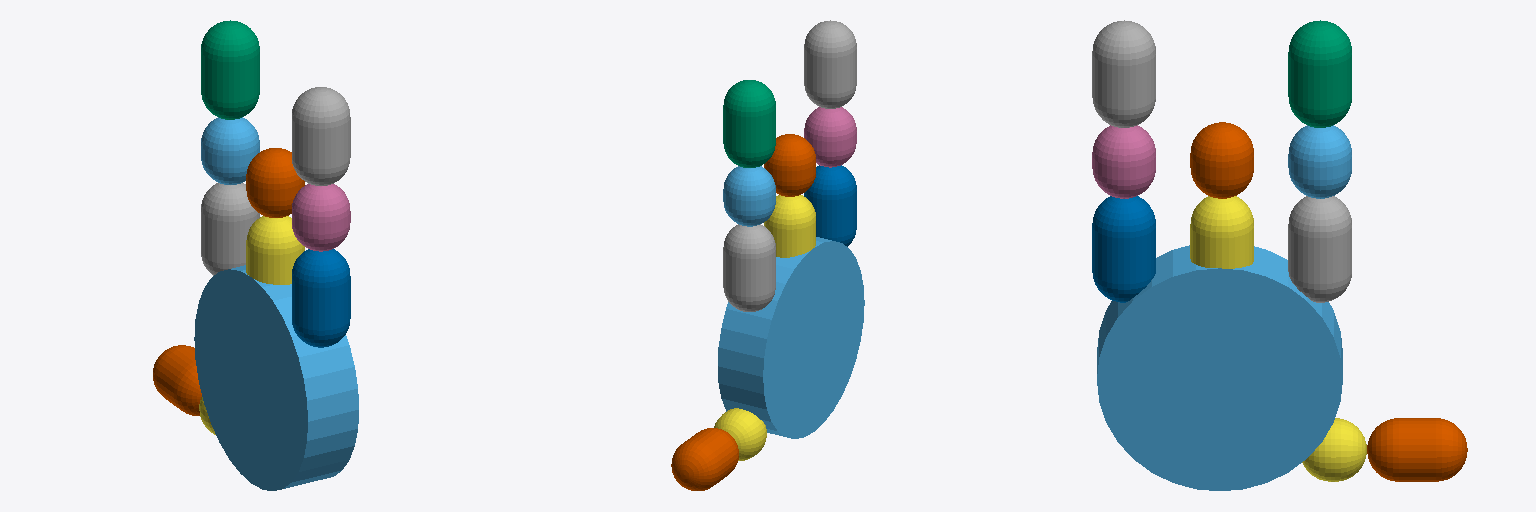
URDF robot description (DexterousHand):
<?xml version="1.0"?>
<robot name="DexterousHand">


    <link name="world"/>
    <joint name="world_to_palm" type="fixed">
        <parent link="world"/>
        <child link="palm"/>
        <origin xyz="0 0 0" rpy="0 0 0"/>
    </joint>
    <link name="palm">
        <inertial>
            <origin xyz="0 0 0.057" rpy="0 0 0"/>
            <mass value="0.30212892864"/>
            <inertia ixx="0.00049080844457568" ixy="0.0" ixz="0.0" iyy="0.00026746366246427523" iyz="0.0" izz="0.00026746366246427523"/>
        </inertial>
        <visual>
            <origin xyz="0 0 0.057" rpy="1.5708 0 1.5708"/>
            <geometry>
                <cylinder radius="0.057" length="0.0296"/>
            </geometry>
            <material name="default"/>
        </visual>
        <collision>
            <origin xyz="0 0 0.057" rpy="1.5708 0 1.5708"/>
            <geometry>
                <cylinder radius="0.057" length="0.0296"/>
            </geometry>
        </collision>
    </link>

    
    <joint name="thumb_joint1" type="revolute">
        <parent link="palm"/>
        <child link="thumb_base"/>
        <origin xyz="0.0029 0.0368 0.0157" rpy="-1.5708 -1.5708 0.0"/>
        <axis xyz="-1 0 0"/>
        <limit lower="-0.349" upper="2.094" effort="1.0" velocity="1.0"/>
    </joint>

    <link name="thumb_base"></link>

    <joint name="thumb_joint2" type="revolute">
        <parent link="thumb_base"/>
        <child link="thumb_proximal"/>
        <origin xyz="0.0 0.0 0.0" rpy="0.0 0.0 0.0"/>
        <axis xyz="0 0 1"/>
        <limit lower="-0.47" upper="2.443" effort="1.0" velocity="1.0"/>
    </joint>

    <link name="thumb_proximal">
        <inertial>
            <origin xyz="0 0 0.01565" rpy="0 0 0"/>
            <mass value="0.021538658803200002"/>
            <inertia ixx="2.9378910096388167e-06" ixy="0.0" ixz="0.0" 
            iyy="2.9378910096388167e-06" iyz="0.0" izz="2.358913912126464e-06"/>
        </inertial>
        <visual>
            <origin xyz="0 0 0.01565" rpy="0 0 0"/>
            <geometry>
                <cylinder radius="0.0148" length="0.0017000000000000001"/>
            </geometry>
            <material name="default"/>
        </visual>
        <visual>
            <origin xyz="0 0 0.0148" rpy="0 0 0"/>
            <geometry>
                <sphere radius="0.0148"/>
            </geometry>
            <material name="default"/>
        </visual>
        <visual>
            <origin xyz="0 0 0.0165" rpy="0 0 0"/>
            <geometry>
                <sphere radius="0.0148"/>
            </geometry>
            <material name="default"/>
        </visual>
        <collision>
            <origin xyz="0 0 0.01565" rpy="0 0 0"/>
            <geometry>
                <cylinder radius="0.0148" length="0.0017000000000000001"/>
            </geometry>
        </collision>
        <collision>
            <origin xyz="0 0 0.0148" rpy="0 0 0"/>
            <geometry>
                <sphere radius="0.0148"/>
            </geometry>
        </collision>
        <collision>
            <origin xyz="0 0 0.0165" rpy="0 0 0"/>
            <geometry>
                <sphere radius="0.0148"/>
            </geometry>
        </collision>
    </link>

    <joint name="thumb_joint3" type="revolute">
        <parent link="thumb_proximal"/>
        <child link="thumb_knuckle"/>
        <origin xyz="0.0 0.0 0.0313" rpy="0.0 0.0 0.0"/>
        <axis xyz="1 0 0"/>
        <limit lower="0.0" upper="0.0" effort="1.0" velocity="1.0"/>
    </joint>

    <link name="thumb_knuckle"></link>

    <joint name="thumb_joint4" type="revolute">
        <parent link="thumb_knuckle"/>
        <child link="thumb_middle"/>
        <origin xyz="0 0 0" rpy="0 0 0"/> 
        <axis xyz="0 1 0"/>
        <limit lower="-1.2" upper="1.9" effort="1.0" velocity="1.0"/>
    </joint>

    <link name="thumb_middle">
        <inertial>
            <origin xyz="0 0 0.0233" rpy="0 0 0"/>
            <mass value="0.032067140582400004"/>
            <inertia ixx="7.5589732685519385e-06" ixy="0.0" ixz="0.0" 
            iyy="7.5589732685519385e-06" iyz="0.0" izz="3.5119932365844485e-06"/>
        </inertial>
        <visual>
            <origin xyz="0 0 0.0233" rpy="0 0 0"/>
            <geometry>
                <cylinder radius="0.0148" length="0.017"/>
            </geometry>
            <material name="default"/>
        </visual>
        <visual>
            <origin xyz="0 0 0.0148" rpy="0 0 0"/>
            <geometry>
                <sphere radius="0.0148"/>
            </geometry>
            <material name="default"/>
        </visual>
        <visual>
            <origin xyz="0 0 0.0318" rpy="0 0 0"/>
            <geometry>
                <sphere radius="0.0148"/>
            </geometry>
            <material name="default"/>
        </visual>
        <collision>
            <origin xyz="0 0 0.0233" rpy="0 0 0"/>
            <geometry>
                <cylinder radius="0.0148" length="0.017"/>
            </geometry>
        </collision>
        <collision>
            <origin xyz="0 0 0.0148" rpy="0 0 0"/>
            <geometry>
                <sphere radius="0.0148"/>
            </geometry>
        </collision>
        <collision>
            <origin xyz="0 0 0.0318" rpy="0 0 0"/>
            <geometry>
                <sphere radius="0.0148"/>
            </geometry>
        </collision>
    </link>

    <joint name="thumb_joint5" type="revolute">
        <parent link="thumb_middle"/>
        <child link="thumb_distal"/>
        <origin xyz="0 0 0.0466" rpy="0 0 0"/> 
        <axis xyz="0 1 0"/>
        <limit lower="0.0" upper="0.0" effort="1.0" velocity="1.0"/>
    </joint>

    <link name="thumb_distal">
    </link>

    
    <joint name="index_joint1" type="revolute">
        <parent link="palm"/>
        <child link="index_proximal"/>
        <origin xyz="0.0 0.0465 0.091" rpy="0.0 0.0 0.0"/>
        <axis xyz="0 1 0"/>
        <limit lower="-0.314" upper="2.23" effort="1.0" velocity="1.0"/>
    </joint>

    <link name="index_proximal">
        <inertial>
            <origin xyz="0 0 0.02655" rpy="0 0 0"/>
            <mass value="0.036540024998400006"/>
            <inertia ixx="1.058665009272394e-05" ixy="0.0" ixz="0.0" 
            iyy="1.058665009272394e-05" iyz="0.0" izz="4.001863537824769e-06"/>
        </inertial>
        <visual>
            <origin xyz="0 0 0.02655" rpy="0 0 0"/>
            <geometry>
                <cylinder radius="0.0148" length="0.0235"/>
            </geometry>
            <material name="default"/>
        </visual>
        <visual>
            <origin xyz="0 0 0.0148" rpy="0 0 0"/>
            <geometry>
                <sphere radius="0.0148"/>
            </geometry>
            <material name="default"/>
        </visual>
        <visual>
            <origin xyz="0 0 0.0383" rpy="0 0 0"/>
            <geometry>
                <sphere radius="0.0148"/>
            </geometry>
            <material name="default"/>
        </visual>
        <collision>
            <origin xyz="0 0 0.02655" rpy="0 0 0"/>
            <geometry>
                <cylinder radius="0.0148" length="0.0235"/>
            </geometry>
        </collision>
        <collision>
            <origin xyz="0 0 0.0148" rpy="0 0 0"/>
            <geometry>
                <sphere radius="0.0148"/>
            </geometry>
        </collision>
        <collision>
            <origin xyz="0 0 0.0383" rpy="0 0 0"/>
            <geometry>
                <sphere radius="0.0148"/>
            </geometry>
        </collision>
    </link>

    <joint name="index_joint2" type="revolute">
        <parent link="index_proximal"/>
        <child link="index_dummy"/>
        <origin xyz="0.0 0.0 0.038" rpy="0.0 0.0 0.0"/>
        <axis xyz="1 0 0"/>
        <limit lower="-1.047" upper="1.047" effort="1.0" velocity="1.0"/>
    </joint>

    <link name="index_dummy"></link>

    <joint name="index_joint3" type="revolute">
        <parent link="index_dummy"/>
        <child link="index_middle"/>
        <origin xyz="0 0 0.015100000000000002" rpy="0 0 0"/>
        <axis xyz="0 1 0"/>
        <limit lower="-0.506" upper="1.885" effort="1.0" velocity="1.0"/>
    </joint>

    <link name="index_middle">
        <inertial>
            <origin xyz="0 0 0.01805" rpy="0 0 0"/>
            <mass value="0.0248417119104"/>
            <inertia ixx="4.058162759109537e-06" ixy="0.0" ixz="0.0" 
            iyy="4.058162759109537e-06" iyz="0.0" izz="2.7206642884270085e-06"/>
        </inertial>
        <visual>
            <origin xyz="0 0 0.01805" rpy="0 0 0"/>
            <geometry>
                <cylinder radius="0.0148" length="0.006499999999999999"/>
            </geometry>
            <material name="default"/>
        </visual>
        <visual>
            <origin xyz="0 0 0.0148" rpy="0 0 0"/>
            <geometry>
                <sphere radius="0.0148"/>
            </geometry>
            <material name="default"/>
        </visual>
        <visual>
            <origin xyz="0 0 0.0213" rpy="0 0 0"/>
            <geometry>
                <sphere radius="0.0148"/>
            </geometry>
            <material name="default"/>
        </visual>
        <collision>
            <origin xyz="0 0 0.01805" rpy="0 0 0"/>
            <geometry>
                <cylinder radius="0.0148" length="0.006499999999999999"/>
            </geometry>
        </collision>
        <collision>
            <origin xyz="0 0 0.0148" rpy="0 0 0"/>
            <geometry>
                <sphere radius="0.0148"/>
            </geometry>
        </collision>
        <collision>
            <origin xyz="0 0 0.0213" rpy="0 0 0"/>
            <geometry>
                <sphere radius="0.0148"/>
            </geometry>
        </collision>
    </link>

    <joint name="index_joint4" type="revolute">
        <parent link="index_middle"/>
        <child link="index_distal"/>
        <origin xyz="0 0 0.0361" rpy="0 0 0"/> 
        <axis xyz="0 1 0"/>
        <limit lower="-0.366" upper="2.042" effort="1.0" velocity="1.0"/>
    </joint>

    <link name="index_distal">
        <inertial>
            <origin xyz="0 0 0.026" rpy="0 0 0"/>
            <mass value="0.035783075328"/>
            <inertia ixx="1.002260084553728e-05" ixy="0.0" ixz="0.0" 
            iyy="1.002260084553728e-05" iyz="0.0" izz="3.91896240992256e-06"/>
        </inertial>
        <visual>
            <origin xyz="0 0 0.026" rpy="0 0 0"/>
            <geometry>
                <cylinder radius="0.0148" length="0.022399999999999996"/>
            </geometry>
            <material name="default"/>
        </visual>
        <visual>
            <origin xyz="0 0 0.0148" rpy="0 0 0"/>
            <geometry>
                <sphere radius="0.0148"/>
            </geometry>
            <material name="default"/>
        </visual>
        <visual>
            <origin xyz="0 0 0.0372" rpy="0 0 0"/>
            <geometry>
                <sphere radius="0.0148"/>
            </geometry>
            <material name="default"/>
        </visual>
        <collision>
            <origin xyz="0 0 0.026" rpy="0 0 0"/>
            <geometry>
                <cylinder radius="0.0148" length="0.022399999999999996"/>
            </geometry>
        </collision>
        <collision>
            <origin xyz="0 0 0.0148" rpy="0 0 0"/>
            <geometry>
                <sphere radius="0.0148"/>
            </geometry>
        </collision>
        <collision>
            <origin xyz="0 0 0.0372" rpy="0 0 0"/>
            <geometry>
                <sphere radius="0.0148"/>
            </geometry>
        </collision>
    </link>

    
    <joint name="middle_joint1" type="revolute">
        <parent link="palm"/>
        <child link="middle_proximal"/>
        <origin xyz="0.0 0.0011 0.091" rpy="0.0 0.0 0.0"/>
        <axis xyz="0 1 0"/>
        <limit lower="-0.314" upper="2.23" effort="1.0" velocity="1.0"/>
    </joint>

    <link name="middle_proximal">
        <inertial>
            <origin xyz="0 0 0.02655" rpy="0 0 0"/>
            <mass value="0.036540024998400006"/>
            <inertia ixx="1.058665009272394e-05" ixy="0.0" ixz="0.0" 
            iyy="1.058665009272394e-05" iyz="0.0" izz="4.001863537824769e-06"/>
        </inertial>
        <visual>
            <origin xyz="0 0 0.02655" rpy="0 0 0"/>
            <geometry>
                <cylinder radius="0.0148" length="0.0235"/>
            </geometry>
            <material name="default"/>
        </visual>
        <visual>
            <origin xyz="0 0 0.0148" rpy="0 0 0"/>
            <geometry>
                <sphere radius="0.0148"/>
            </geometry>
            <material name="default"/>
        </visual>
        <visual>
            <origin xyz="0 0 0.0383" rpy="0 0 0"/>
            <geometry>
                <sphere radius="0.0148"/>
            </geometry>
            <material name="default"/>
        </visual>
        <collision>
            <origin xyz="0 0 0.02655" rpy="0 0 0"/>
            <geometry>
                <cylinder radius="0.0148" length="0.0235"/>
            </geometry>
        </collision>
        <collision>
            <origin xyz="0 0 0.0148" rpy="0 0 0"/>
            <geometry>
                <sphere radius="0.0148"/>
            </geometry>
        </collision>
        <collision>
            <origin xyz="0 0 0.0383" rpy="0 0 0"/>
            <geometry>
                <sphere radius="0.0148"/>
            </geometry>
        </collision>
    </link>

    <joint name="middle_joint2" type="revolute">
        <parent link="middle_proximal"/>
        <child link="middle_dummy"/>
        <origin xyz="0.0 0.0 0.038" rpy="0.0 0.0 0.0"/>
        <axis xyz="1 0 0"/>
        <limit lower="-1.047" upper="1.047" effort="1.0" velocity="1.0"/>
    </joint>

    <link name="middle_dummy"></link>

    <joint name="middle_joint3" type="revolute">
        <parent link="middle_dummy"/>
        <child link="middle_middle"/>
        <origin xyz="0 0 0.015100000000000002" rpy="0 0 0"/>
        <axis xyz="0 1 0"/>
        <limit lower="-0.506" upper="1.885" effort="1.0" velocity="1.0"/>
    </joint>

    <link name="middle_middle">
        <inertial>
            <origin xyz="0 0 0.01805" rpy="0 0 0"/>
            <mass value="0.0248417119104"/>
            <inertia ixx="4.058162759109537e-06" ixy="0.0" ixz="0.0" 
            iyy="4.058162759109537e-06" iyz="0.0" izz="2.7206642884270085e-06"/>
        </inertial>
        <visual>
            <origin xyz="0 0 0.01805" rpy="0 0 0"/>
            <geometry>
                <cylinder radius="0.0148" length="0.006499999999999999"/>
            </geometry>
            <material name="default"/>
        </visual>
        <visual>
            <origin xyz="0 0 0.0148" rpy="0 0 0"/>
            <geometry>
                <sphere radius="0.0148"/>
            </geometry>
            <material name="default"/>
        </visual>
        <visual>
            <origin xyz="0 0 0.0213" rpy="0 0 0"/>
            <geometry>
                <sphere radius="0.0148"/>
            </geometry>
            <material name="default"/>
        </visual>
        <collision>
            <origin xyz="0 0 0.01805" rpy="0 0 0"/>
            <geometry>
                <cylinder radius="0.0148" length="0.006499999999999999"/>
            </geometry>
        </collision>
        <collision>
            <origin xyz="0 0 0.0148" rpy="0 0 0"/>
            <geometry>
                <sphere radius="0.0148"/>
            </geometry>
        </collision>
        <collision>
            <origin xyz="0 0 0.0213" rpy="0 0 0"/>
            <geometry>
                <sphere radius="0.0148"/>
            </geometry>
        </collision>
    </link>

    <joint name="middle_joint4" type="revolute">
        <parent link="middle_middle"/>
        <child link="middle_distal"/>
        <origin xyz="0 0 0.0361" rpy="0 0 0"/> 
        <axis xyz="0 1 0"/>
        <limit lower="0.0" upper="0.0" effort="1.0" velocity="1.0"/>
    </joint>

    <link name="middle_distal">
    </link>

    
    <joint name="ring_joint1" type="revolute">
        <parent link="palm"/>
        <child link="ring_proximal"/>
        <origin xyz="0.0 0.0 0.0" rpy="0.0 0.0 0.0"/>
        <axis xyz="1 0 0"/>
        <limit lower="0.0" upper="0.0" effort="1.0" velocity="1.0"/>
    </joint>

    <link name="ring_proximal">
    </link>

    <joint name="ring_joint2" type="revolute">
        <parent link="ring_proximal"/>
        <child link="ring_dummy"/>
        <origin xyz="0.0 0.0 0.0" rpy="0.0 0.0 0.0"/>
        <axis xyz="0 1 0"/>
        <limit lower="0.0" upper="0.0" effort="1.0" velocity="1.0"/>
    </joint>

    <link name="ring_dummy"></link>

    <joint name="ring_joint3" type="revolute">
        <parent link="ring_dummy"/>
        <child link="ring_middle"/>
        <origin xyz="0 0 0" rpy="0 0 0"/>
        <axis xyz="0 1 0"/>
        <limit lower="0.0" upper="0.0" effort="1.0" velocity="1.0"/>
    </joint>

    <link name="ring_middle">
    </link>

    <joint name="ring_joint4" type="revolute">
        <parent link="ring_middle"/>
        <child link="ring_distal"/>
        <origin xyz="0 0 0" rpy="0 0 0"/> 
        <axis xyz="0 1 0"/>
        <limit lower="0.0" upper="0.0" effort="1.0" velocity="1.0"/>
    </joint>

    <link name="ring_distal">
    </link>

    
    <joint name="little_joint0" type="revolute">
        <parent link="palm"/>
        <child link="little_base"/>
        <origin xyz="0.0 0.0 0.0" rpy="0.0 0.0 0.0"/>
        <axis xyz="0 1 0"/>
        <limit lower="0.0" upper="0.0" effort="1.0" velocity="1.0"/>
    </joint>

    <link name="little_base"></link>

    <joint name="little_joint1" type="revolute">
        <parent link="little_base"/>
        <child link="little_proximal"/>
        <origin xyz="0.0 -0.0443 0.091" rpy="-0.0 -0.0 -0.0"/>
        <axis xyz="0 1 0"/>
        <limit lower="-0.314" upper="2.23" effort="1.0" velocity="1.0"/>
    </joint>

    <link name="little_proximal">
        <inertial>
            <origin xyz="0 0 0.02655" rpy="0 0 0"/>
            <mass value="0.036540024998400006"/>
            <inertia ixx="1.058665009272394e-05" ixy="0.0" ixz="0.0" 
            iyy="1.058665009272394e-05" iyz="0.0" izz="4.001863537824769e-06"/>
        </inertial>
        <visual>
            <origin xyz="0 0 0.02655" rpy="0 0 0"/>
            <geometry>
                <cylinder radius="0.0148" length="0.0235"/>
            </geometry>
            <material name="default"/>
        </visual>
        <visual>
            <origin xyz="0 0 0.0148" rpy="0 0 0"/>
            <geometry>
                <sphere radius="0.0148"/>
            </geometry>
            <material name="default"/>
        </visual>
        <visual>
            <origin xyz="0 0 0.0383" rpy="0 0 0"/>
            <geometry>
                <sphere radius="0.0148"/>
            </geometry>
            <material name="default"/>
        </visual>
        <collision>
            <origin xyz="0 0 0.02655" rpy="0 0 0"/>
            <geometry>
                <cylinder radius="0.0148" length="0.0235"/>
            </geometry>
        </collision>
        <collision>
            <origin xyz="0 0 0.0148" rpy="0 0 0"/>
            <geometry>
                <sphere radius="0.0148"/>
            </geometry>
        </collision>
        <collision>
            <origin xyz="0 0 0.0383" rpy="0 0 0"/>
            <geometry>
                <sphere radius="0.0148"/>
            </geometry>
        </collision>
    </link>

    <joint name="little_joint2" type="revolute">
        <parent link="little_proximal"/>
        <child link="little_dummy"/>
        <origin xyz="0.0 0.0 0.038" rpy="0.0 0.0 0.0"/>
        <axis xyz="1 0 0"/>
        <limit lower="-1.047" upper="1.047" effort="1.0" velocity="1.0"/>
    </joint>

    <link name="little_dummy"></link>

    <joint name="little_joint3" type="revolute">
        <parent link="little_dummy"/>
        <child link="little_middle"/>
        <origin xyz="0 0 0.015100000000000002" rpy="0 0 0"/>
        <axis xyz="0 1 0"/>
        <limit lower="-0.506" upper="1.885" effort="1.0" velocity="1.0"/>
    </joint>

    <link name="little_middle">
        <inertial>
            <origin xyz="0 0 0.01805" rpy="0 0 0"/>
            <mass value="0.0248417119104"/>
            <inertia ixx="4.058162759109537e-06" ixy="0.0" ixz="0.0" 
            iyy="4.058162759109537e-06" iyz="0.0" izz="2.7206642884270085e-06"/>
        </inertial>
        <visual>
            <origin xyz="0 0 0.01805" rpy="0 0 0"/>
            <geometry>
                <cylinder radius="0.0148" length="0.006499999999999999"/>
            </geometry>
            <material name="default"/>
        </visual>
        <visual>
            <origin xyz="0 0 0.0148" rpy="0 0 0"/>
            <geometry>
                <sphere radius="0.0148"/>
            </geometry>
            <material name="default"/>
        </visual>
        <visual>
            <origin xyz="0 0 0.0213" rpy="0 0 0"/>
            <geometry>
                <sphere radius="0.0148"/>
            </geometry>
            <material name="default"/>
        </visual>
        <collision>
            <origin xyz="0 0 0.01805" rpy="0 0 0"/>
            <geometry>
                <cylinder radius="0.0148" length="0.006499999999999999"/>
            </geometry>
        </collision>
        <collision>
            <origin xyz="0 0 0.0148" rpy="0 0 0"/>
            <geometry>
                <sphere radius="0.0148"/>
            </geometry>
        </collision>
        <collision>
            <origin xyz="0 0 0.0213" rpy="0 0 0"/>
            <geometry>
                <sphere radius="0.0148"/>
            </geometry>
        </collision>
    </link>

    <joint name="little_joint4" type="revolute">
        <parent link="little_middle"/>
        <child link="little_distal"/>
        <origin xyz="0 0 0.0361" rpy="0 0 0"/>
        <axis xyz="0 1 0"/>
        <limit lower="-0.366" upper="2.042" effort="1.0" velocity="1.0"/>
    </joint>

    <link name="little_distal">
        <inertial>
            <origin xyz="0 0 0.026" rpy="0 0 0"/>
            <mass value="0.035783075328"/>
            <inertia ixx="1.002260084553728e-05" ixy="0.0" ixz="0.0" 
            iyy="1.002260084553728e-05" iyz="0.0" izz="3.91896240992256e-06"/>
        </inertial>
        <visual>
            <origin xyz="0 0 0.026" rpy="0 0 0"/>
            <geometry>
                <cylinder radius="0.0148" length="0.022399999999999996"/>
            </geometry>
            <material name="default"/>
        </visual>
        <visual>
            <origin xyz="0 0 0.0148" rpy="0 0 0"/>
            <geometry>
                <sphere radius="0.0148"/>
            </geometry>
            <material name="default"/>
        </visual>
        <visual>
            <origin xyz="0 0 0.0372" rpy="0 0 0"/>
            <geometry>
                <sphere radius="0.0148"/>
            </geometry>
            <material name="default"/>
        </visual>
        <collision>
            <origin xyz="0 0 0.026" rpy="0 0 0"/>
            <geometry>
                <cylinder radius="0.0148" length="0.022399999999999996"/>
            </geometry>
        </collision>
        <collision>
            <origin xyz="0 0 0.0148" rpy="0 0 0"/>
            <geometry>
                <sphere radius="0.0148"/>
            </geometry>
        </collision>
        <collision>
            <origin xyz="0 0 0.0372" rpy="0 0 0"/>
            <geometry>
                <sphere radius="0.0148"/>
            </geometry>
        </collision>
    </link>

</robot>

--- Facts derived from the render (not from the file) ---
The picture shows the robot from 3 angles, left to right: view 1: azimuth 30°, elevation 25°; view 2: azimuth 150°, elevation 25°; view 3: azimuth 270°, elevation 25°; orthographic projection.
Robot: DexterousHand — 24 links, 23 joints (22 revolute, 1 fixed); root link world; default pose: all joints at 0.
Links seen in each view (by area): view 1: palm, little_proximal, index_distal, little_distal, index_proximal, little_middle, index_middle, middle_proximal, middle_middle, thumb_middle; view 2: palm, index_proximal, little_distal, index_distal, thumb_middle, little_proximal, index_middle, little_middle, middle_proximal, middle_middle, thumb_proximal; view 3: palm, little_distal, index_distal, index_proximal, little_proximal, thumb_middle, middle_proximal, middle_middle, little_middle, index_middle, thumb_proximal.
Link boxes in pixels (x1,y1,x2,y2): palm: (194, 265, 358, 490); little_proximal: (292, 249, 350, 347); index_distal: (201, 20, 259, 119); little_distal: (292, 87, 350, 185); index_proximal: (201, 183, 259, 275); little_middle: (292, 184, 350, 251); index_middle: (201, 117, 259, 184); middle_proximal: (246, 216, 304, 284); middle_middle: (246, 148, 304, 217); thumb_middle: (153, 345, 201, 415); palm: (718, 237, 864, 438); index_proximal: (723, 224, 775, 311); little_distal: (804, 20, 856, 108); index_distal: (723, 80, 775, 167); thumb_middle: (671, 428, 738, 490); little_proximal: (804, 165, 856, 246); index_middle: (723, 166, 775, 226); little_middle: (804, 107, 856, 167); middle_proximal: (764, 195, 815, 257); middle_middle: (764, 134, 815, 196); thumb_proximal: (714, 408, 766, 460); palm: (1097, 245, 1342, 490); little_distal: (1092, 20, 1155, 127); index_distal: (1288, 20, 1351, 127); index_proximal: (1288, 196, 1351, 302); little_proximal: (1092, 196, 1155, 302); thumb_middle: (1367, 418, 1467, 481); middle_proximal: (1190, 196, 1253, 268); middle_middle: (1190, 122, 1253, 198); little_middle: (1092, 125, 1155, 198); index_middle: (1288, 125, 1351, 198); thumb_proximal: (1302, 418, 1366, 481).
Bounding box of the posed robot: 0.0325 × 0.1738 × 0.2322 m (x, y, z).
Geometry: primitives only (box / cylinder / sphere), no mesh files.
